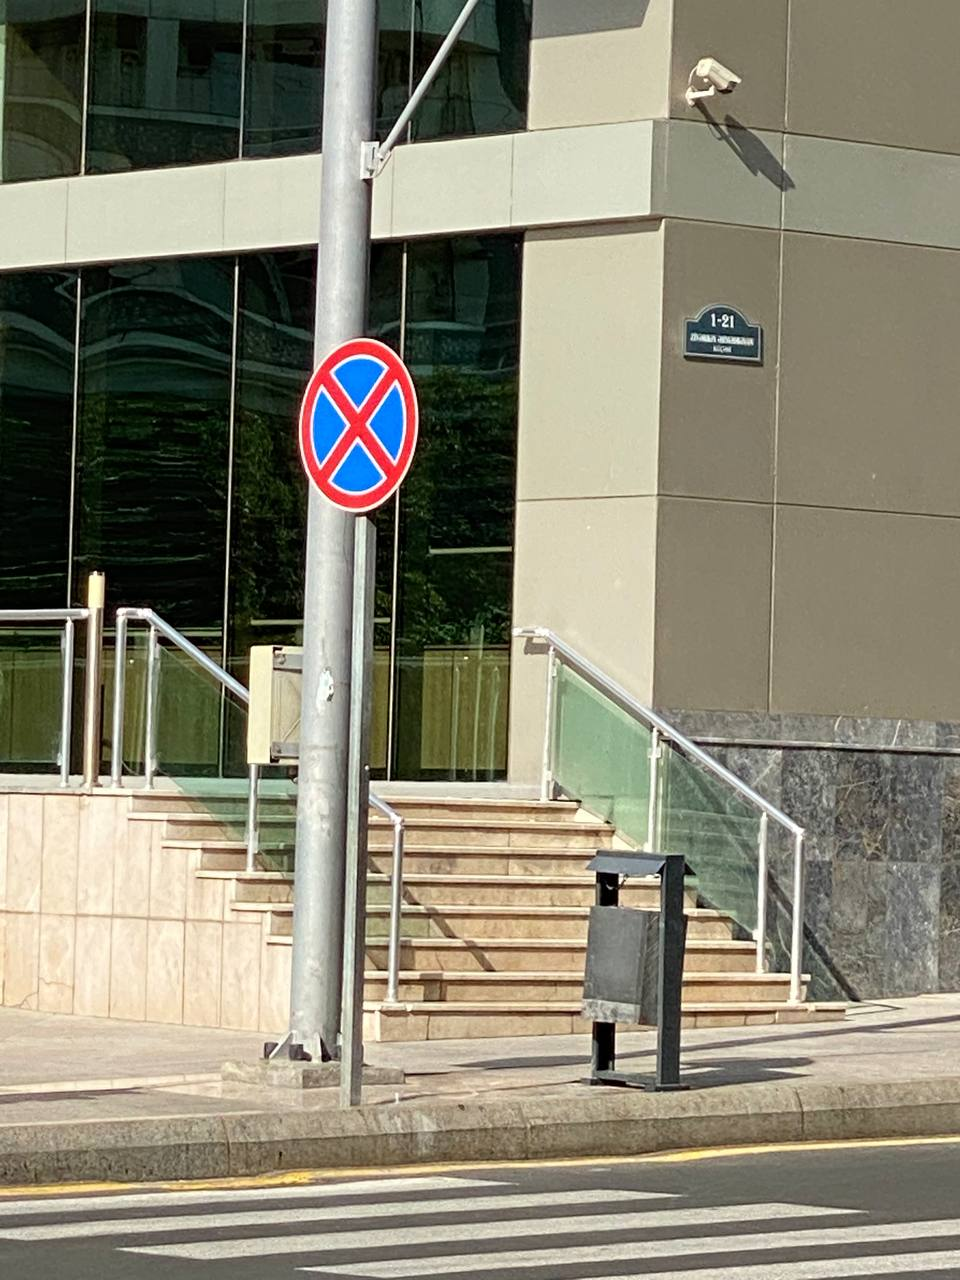No Parking: (297, 338, 419, 514)
